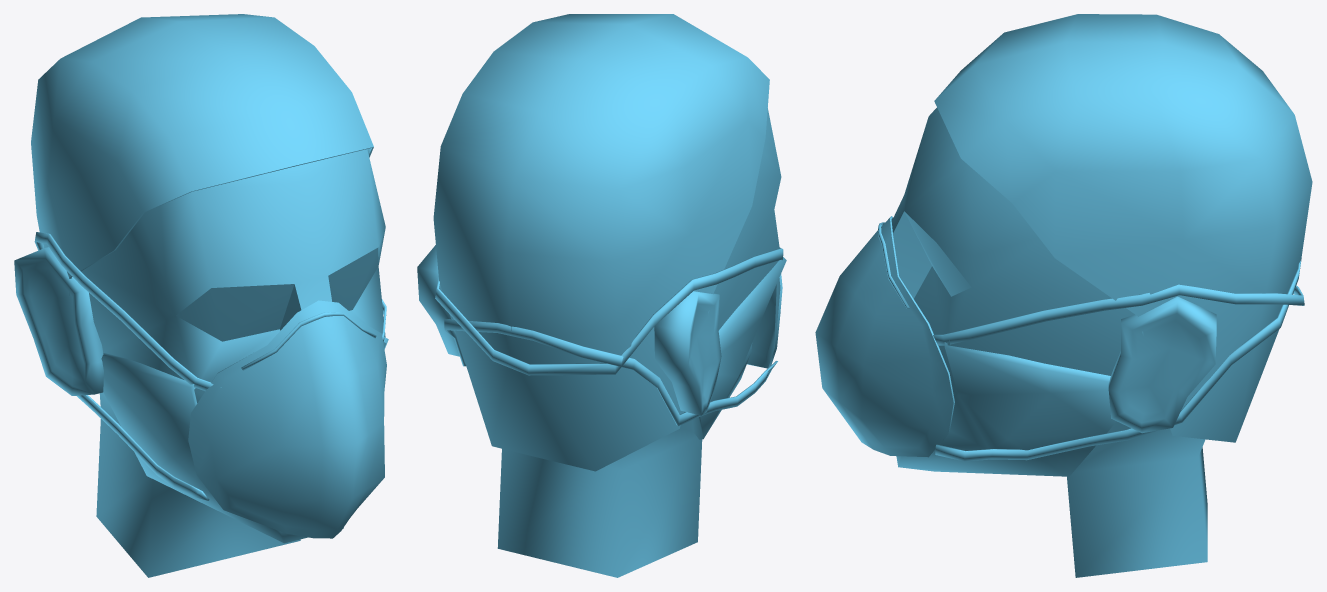
File: headMaskMale_beardTangled.FBX
3 renders of one model, left to right at view 1: azimuth 30°, elevation 25°; view 2: azimuth 150°, elevation 25°; view 3: azimuth 270°, elevation 25°, orthographic. The views are drawn at different scales.
Visible parts, largest first — view 1: head, hair2, maskN95_tangled, beard, ear; view 2: hair2, head, maskN95_tangled, ear, beard; view 3: hair2, head, maskN95_tangled, beard, ear.
Part boxes in pixels (<box>): head: <box>81,149,386,577</box>; hair2: <box>31,14,373,295</box>; maskN95_tangled: <box>34,232,386,538</box>; beard: <box>101,337,388,543</box>; ear: <box>14,247,103,395</box>; hair2: <box>433,14,769,471</box>; head: <box>497,108,781,577</box>; maskN95_tangled: <box>435,247,783,425</box>; ear: <box>417,245,721,415</box>; beard: <box>692,257,786,439</box>; hair2: <box>934,14,1312,442</box>; head: <box>891,108,1207,577</box>; maskN95_tangled: <box>815,216,1304,461</box>; beard: <box>896,342,1116,476</box>; ear: <box>1108,296,1216,433</box>.
Bounding box in the file's own units: 14.19 × 24.71 × 22.31.
